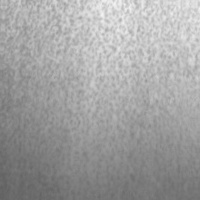pitted_surface: (0, 0, 200, 144)
